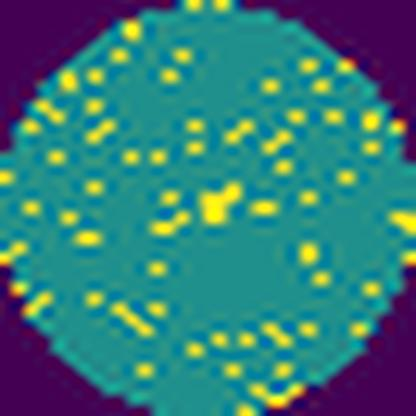Center: (196, 178, 244, 230)
